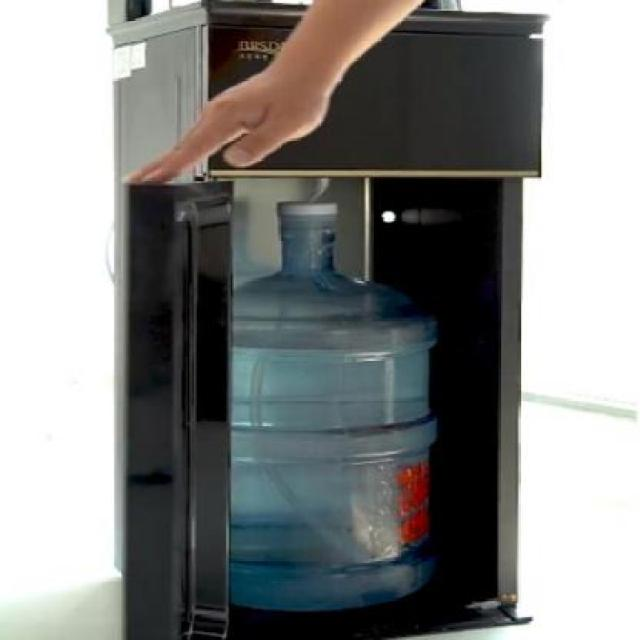coolerbottle: (205, 195, 452, 624)
